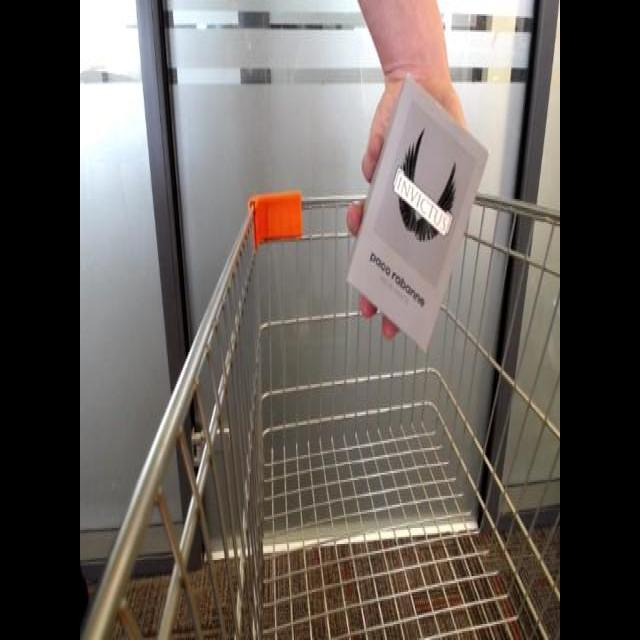Paco Rabanne: (344, 86, 498, 356)
